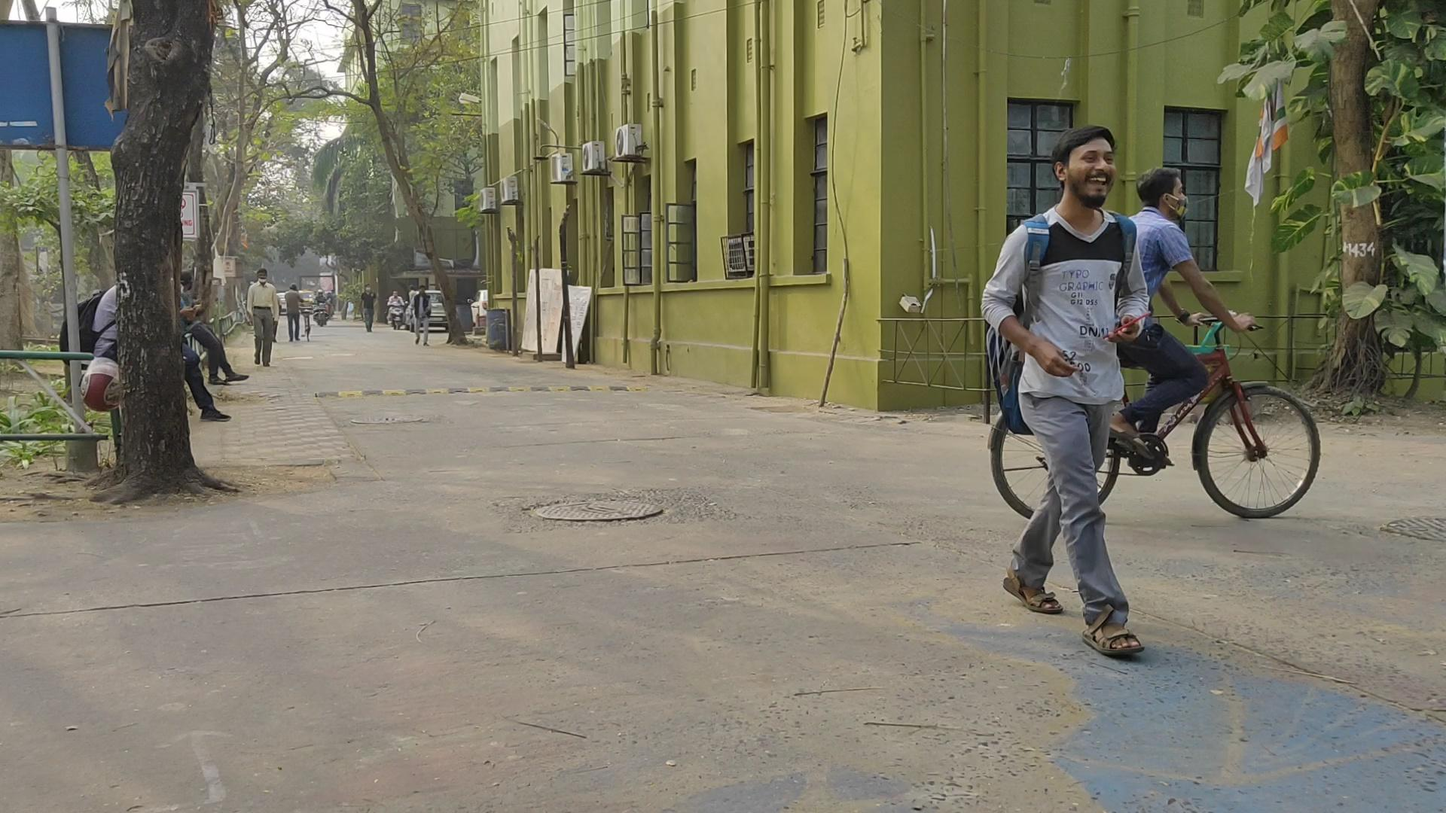bike: (990, 168, 1321, 524), (283, 282, 313, 343), (383, 291, 408, 330), (310, 288, 334, 327)
car: (404, 290, 450, 335)
